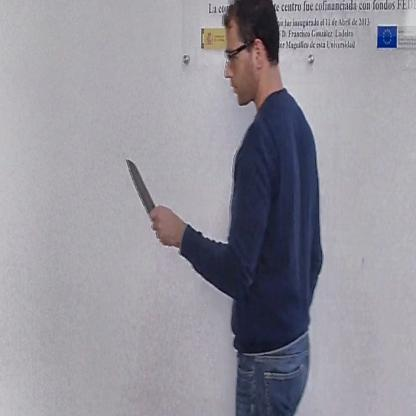knife: (122, 150, 166, 238)
